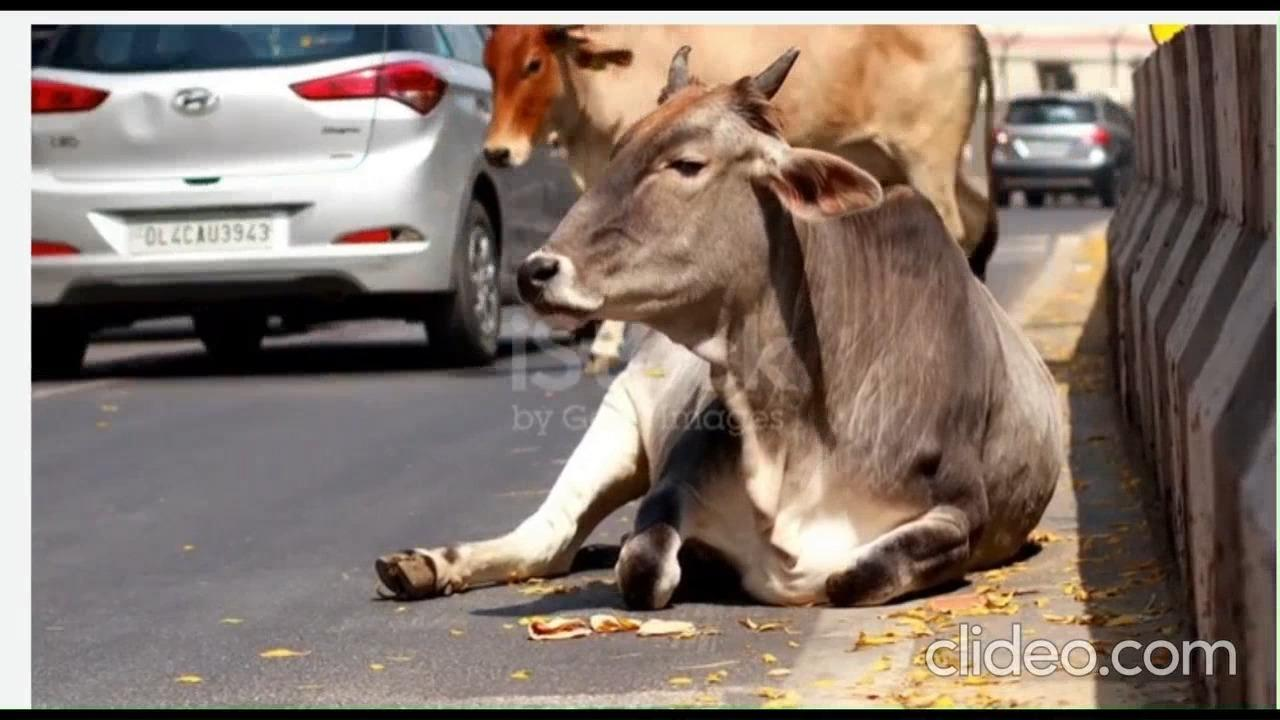Cow: (376, 52, 1049, 603), (484, 24, 1006, 275)
